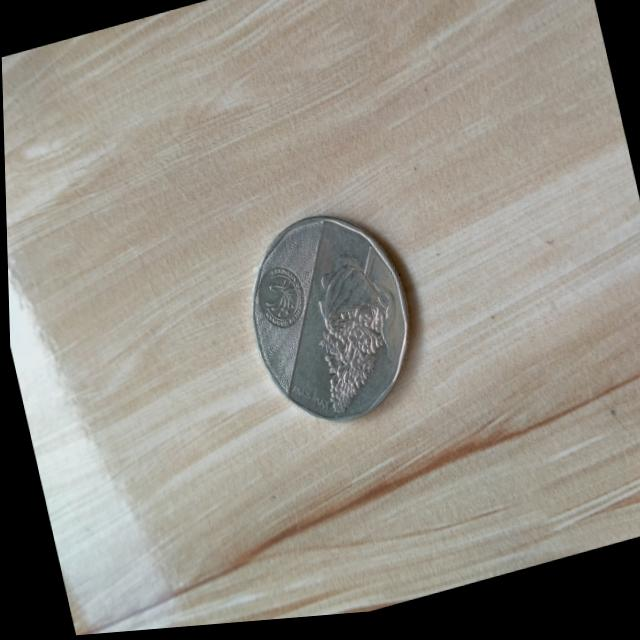10_New_Back: (288, 235, 417, 433)
